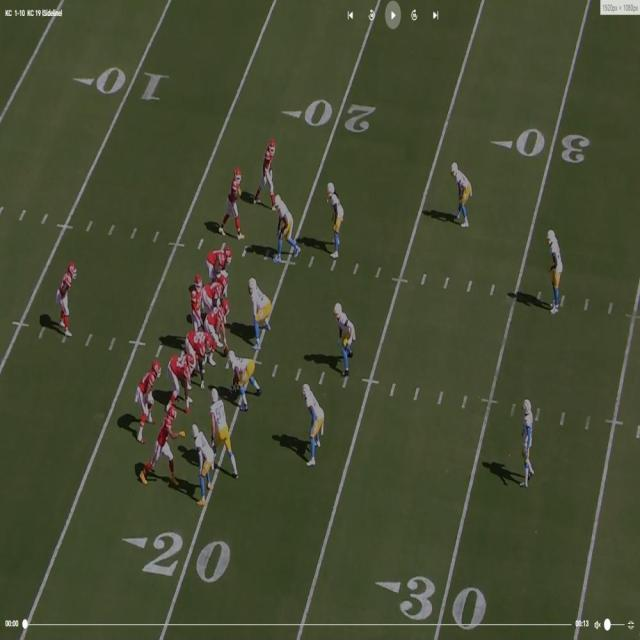center: (213, 302, 233, 354)
db: (453, 160, 471, 224), (548, 229, 562, 309), (328, 185, 343, 257), (522, 397, 532, 485)
lb: (336, 299, 356, 386), (304, 385, 323, 468), (191, 425, 210, 502), (274, 191, 296, 255)
qb: (192, 281, 205, 329)
skill: (148, 402, 174, 478), (224, 170, 245, 238), (256, 141, 277, 206), (138, 363, 156, 431), (59, 264, 74, 336)
